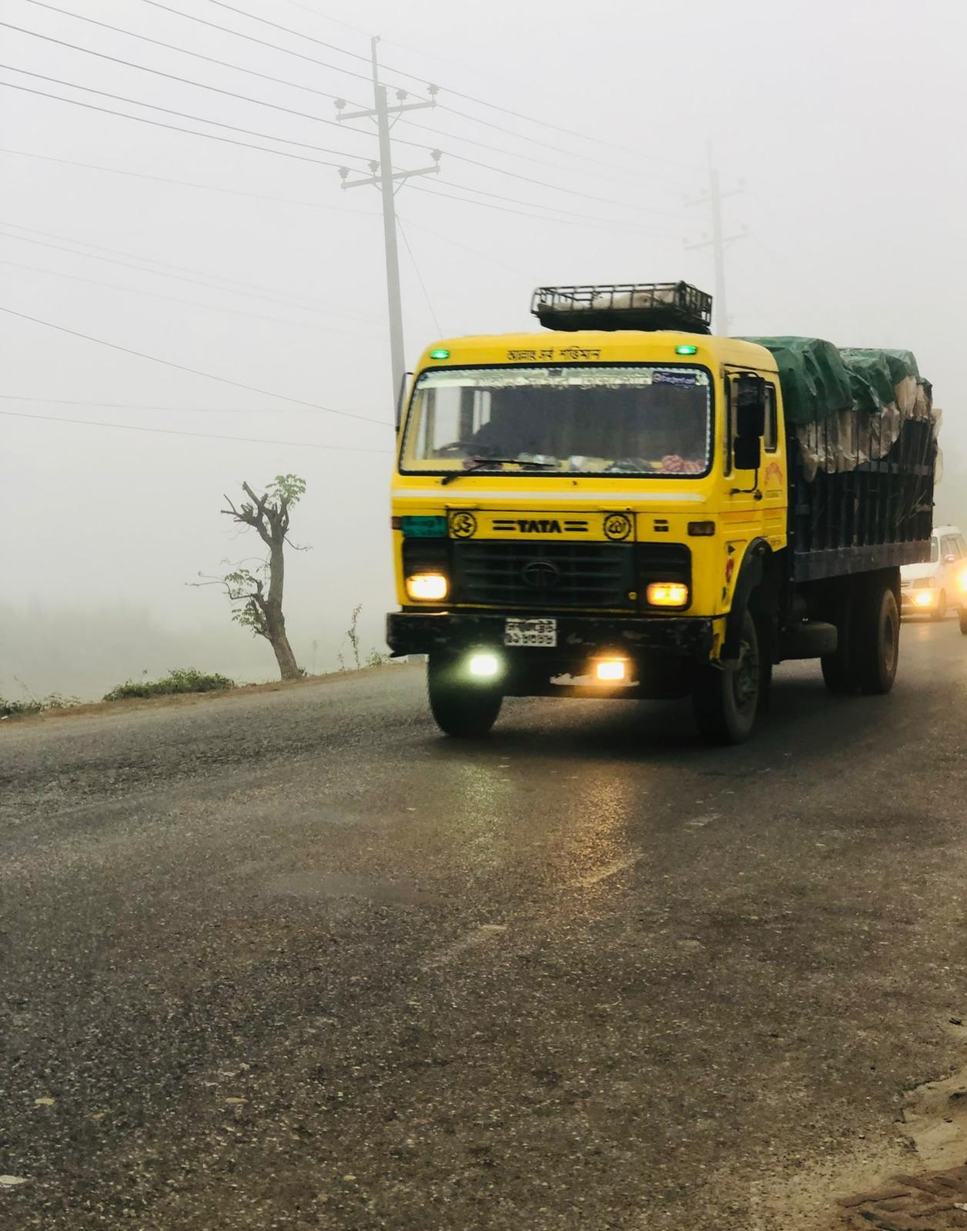Car: (903, 517, 967, 622)
Truck: (354, 267, 944, 822)
